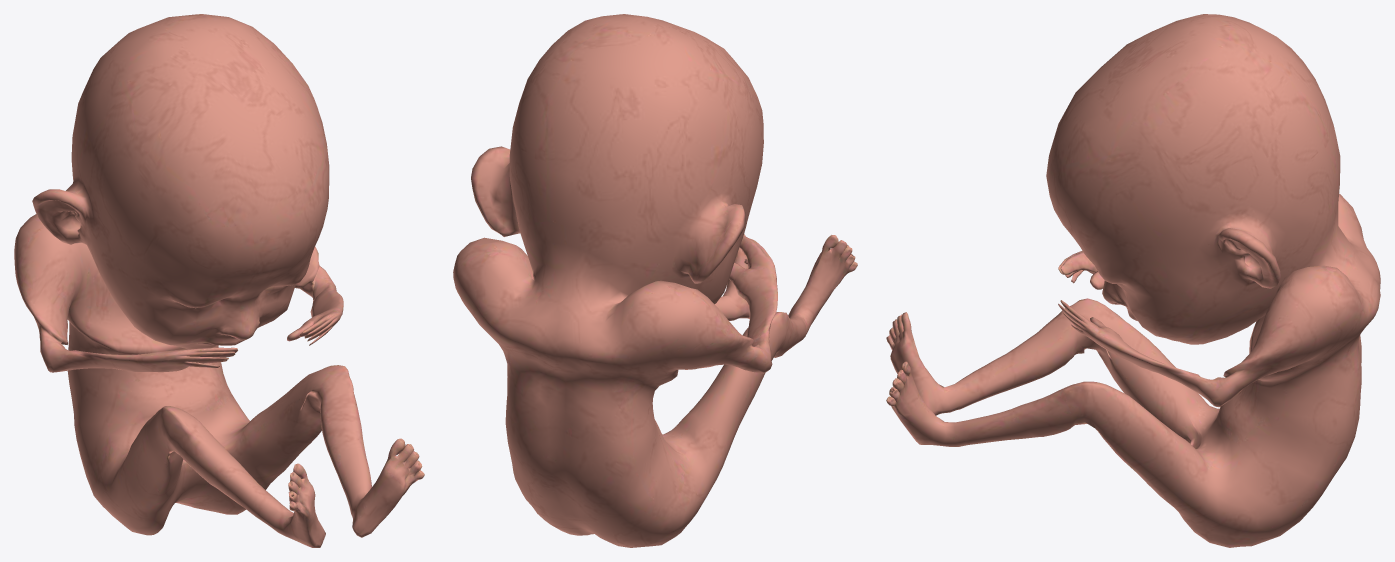
3 renders of one model, left to right at view 1: azimuth 30°, elevation 25°; view 2: azimuth 150°, elevation 25°; view 3: azimuth 270°, elevation 25°, orthographic.
Visible parts, largest first — view 1: Baby; view 2: Baby; view 3: Baby.
Boxes of the visible parts, box(x1,y1,x2,y2) form: Baby: box(14, 14, 424, 547); Baby: box(453, 14, 857, 547); Baby: box(886, 14, 1380, 547).
Bounding box in the file's own units: 0.0524 × 0.087 × 0.0778.
Materials: 1 (1 with a texture image).
